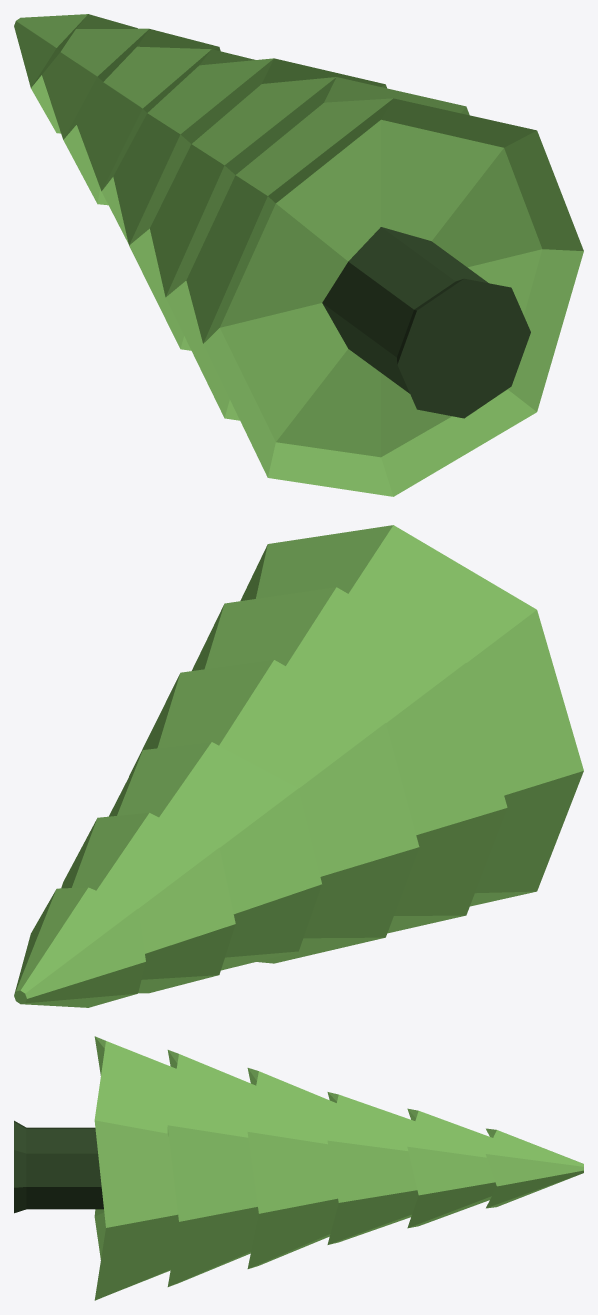
Rendered from Pine_1.fbx.
The picture shows the model from 3 angles, top to bottom: view 1: azimuth 30°, elevation 25°; view 2: azimuth 150°, elevation 25°; view 3: azimuth 270°, elevation 25°; orthographic projection. The views are drawn at different scales.
Parts seen in each view (by area): view 1: Pine_1; view 2: Pine_1; view 3: Pine_1.
Part boxes in pixels (x1,y1,x2,y2): Pine_1: [14, 14, 583, 496]; Pine_1: [14, 525, 583, 1007]; Pine_1: [14, 1036, 583, 1300].
Bounding box in the file's own units: 272 × 272 × 551.
